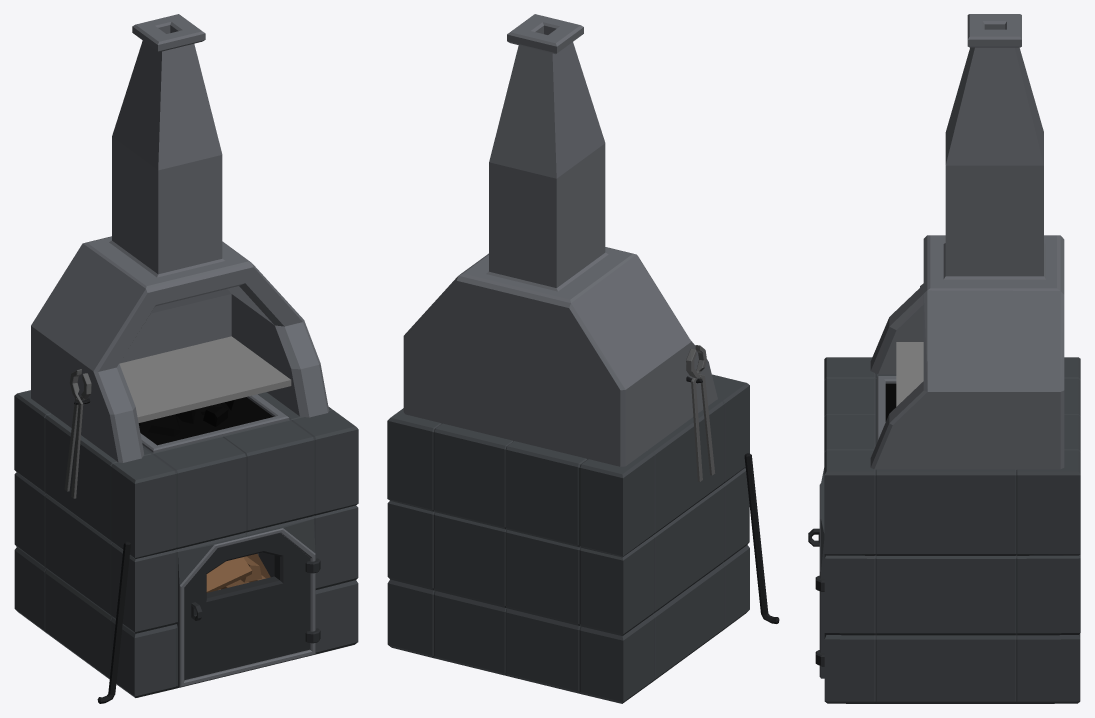
File: oven.glb
3 views of the same model, side by side, from view 1: azimuth 30°, elevation 25°; view 2: azimuth 150°, elevation 25°; view 3: azimuth 270°, elevation 25° (orthographic). The views are drawn at different scales.
Parts seen in each view (by area): view 1: SM_Production_Smithy_22; view 2: SM_Production_Smithy_22; view 3: SM_Production_Smithy_22.
Part boxes in pixels (bbox=[...]): SM_Production_Smithy_22: bbox=[14, 14, 358, 703]; SM_Production_Smithy_22: bbox=[387, 14, 779, 703]; SM_Production_Smithy_22: bbox=[808, 14, 1080, 703].
Bounding box in the file's own units: 0.9813 × 2.14 × 0.8501.
2 materials, 1 textured.
